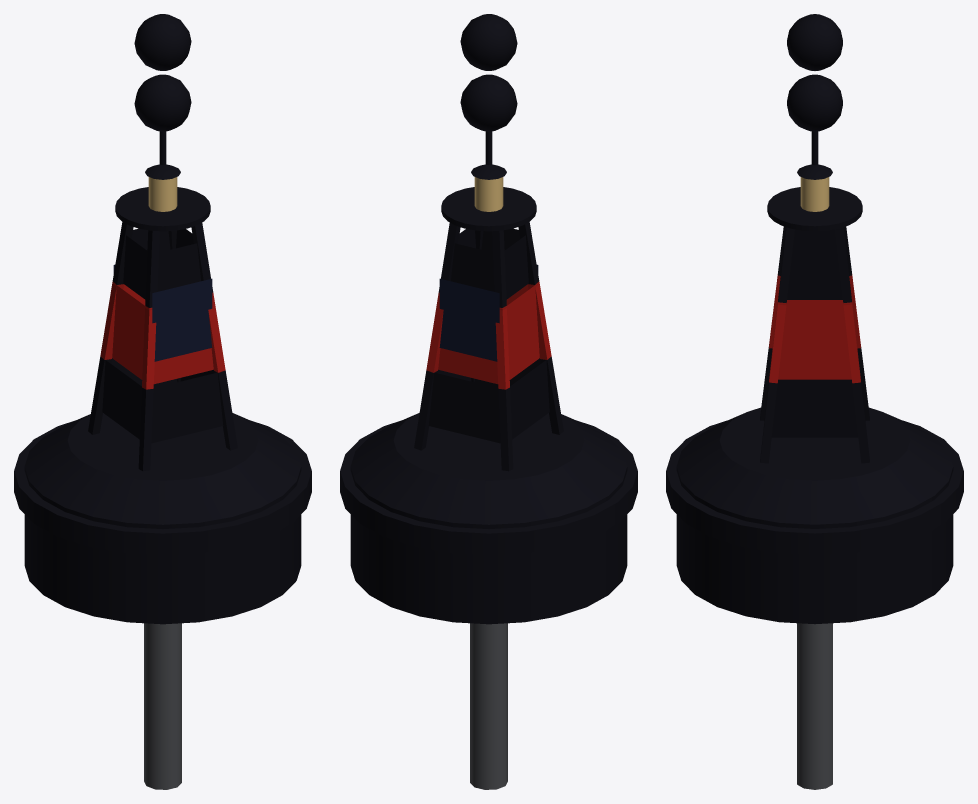
File: buoy_isolated_danger.glb
3 renders of one model, left to right at view 1: azimuth 30°, elevation 25°; view 2: azimuth 150°, elevation 25°; view 3: azimuth 270°, elevation 25°, orthographic.
Parts seen in each view (by area): view 1: buoy_isolated_danger; view 2: buoy_isolated_danger; view 3: buoy_isolated_danger.
Part boxes in pixels (x1,y1,x2,y2): buoy_isolated_danger: (14, 14, 311, 789); buoy_isolated_danger: (340, 14, 637, 789); buoy_isolated_danger: (666, 14, 963, 789).
Size of the model in its own units: 3.12 by 8.85 by 3.12.
